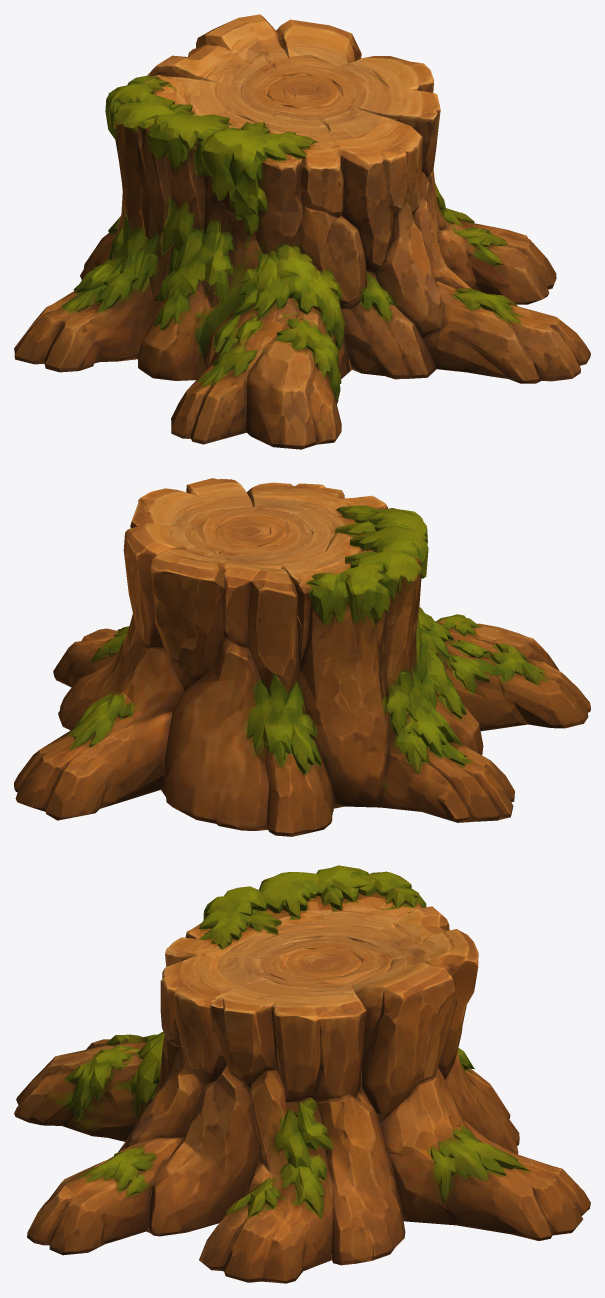
Rendered from mossy-stump.glb.
3 views of the same model, one above another, from view 1: azimuth 30°, elevation 25°; view 2: azimuth 150°, elevation 25°; view 3: azimuth 270°, elevation 25° (orthographic). The views are drawn at different scales.
Parts seen in each view (by area): view 1: output_unwrapped; view 2: output_unwrapped; view 3: output_unwrapped.
Boxes of the visible parts, x1=… form: output_unwrapped: x1=14, y1=14, x2=590, y2=449; output_unwrapped: x1=14, y1=478, x2=590, y2=836; output_unwrapped: x1=14, y1=865, x2=590, y2=1283.
Bounding box in the file's own units: 1.67 × 0.75 × 1.67.
1 material, 1 textured.
